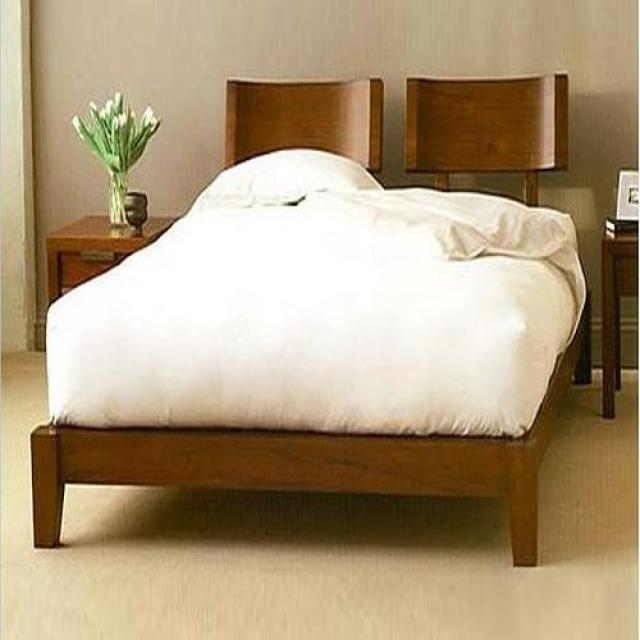bed: (28, 148, 588, 571)
